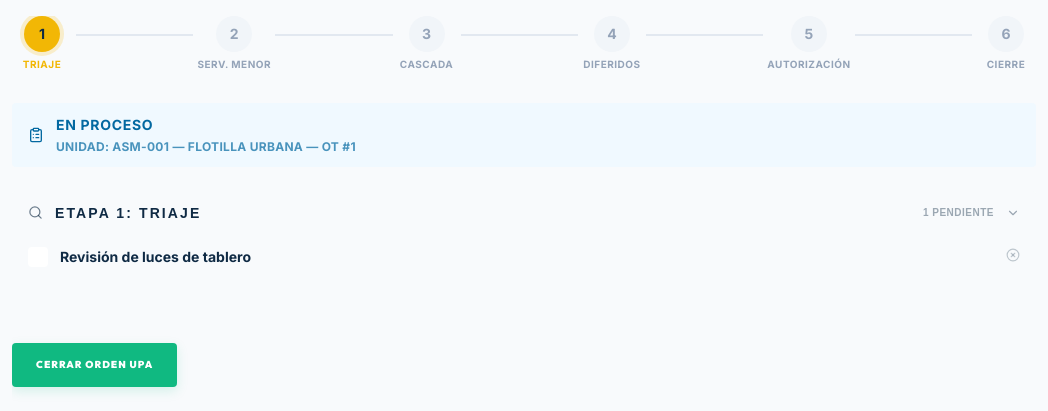
Test: UpaWorkspace › Active Work Order View › clicking open accordion toggle closes it
expect the element with test id "accordion-content-triage" is shown: met, box [28,246,1020,266]
Step 1. Click the button with test id "accordion-toggle-triage" → coordinates (86, 212), box [12,190,1036,234]
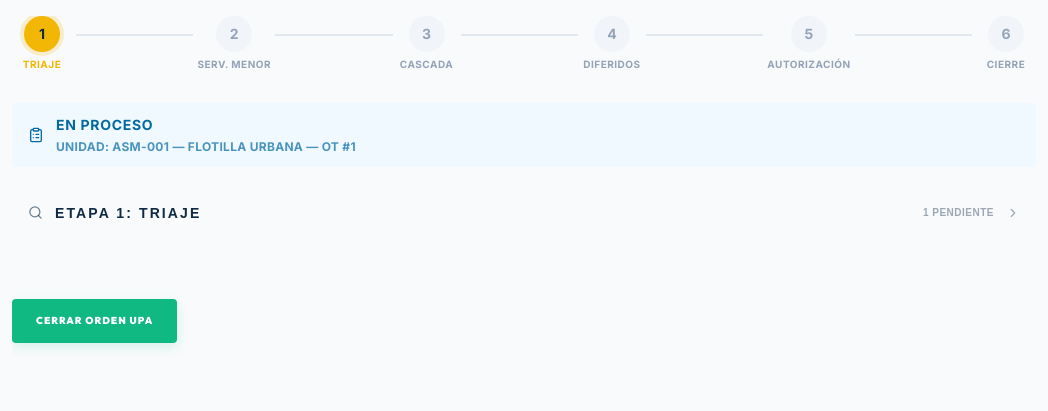
expect the element with test id "accordion-content-triage" is gone: met
